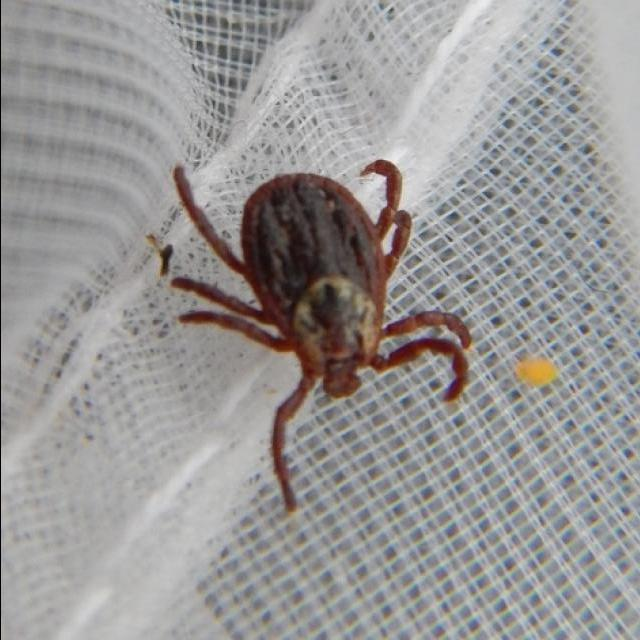Dermacentor Reticulatus-F: (169, 159, 470, 513)
